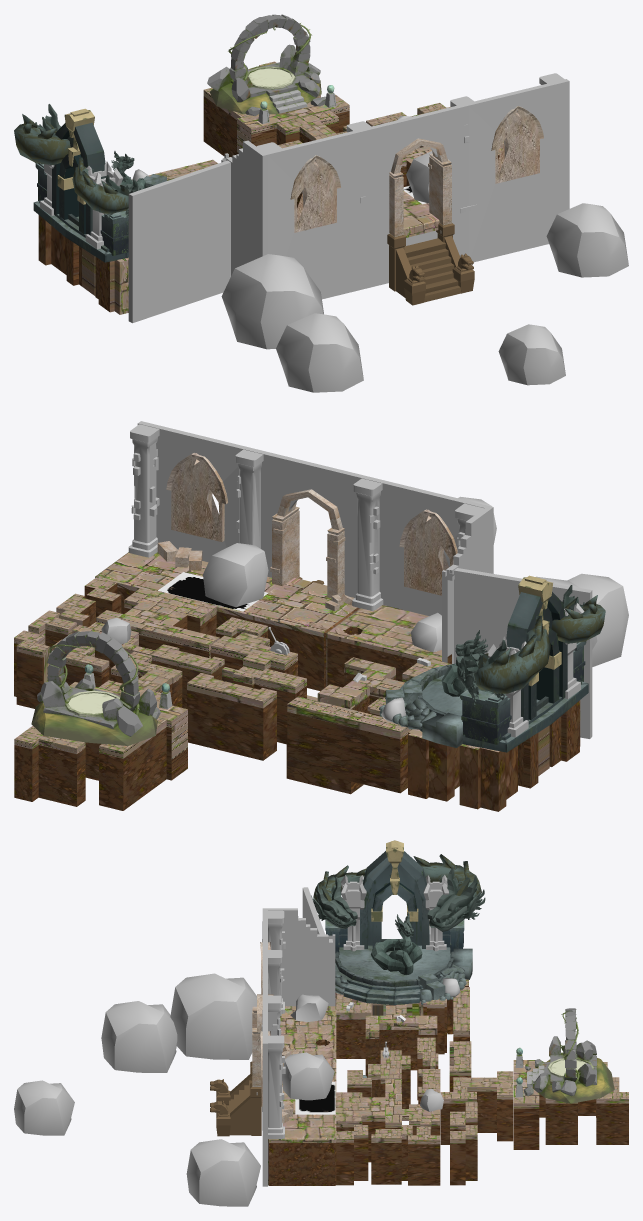
File: Tutorial_Level.fbx
3 views of the same model, one above another, from view 1: azimuth 30°, elevation 25°; view 2: azimuth 150°, elevation 25°; view 3: azimuth 270°, elevation 25° (orthographic). The views are drawn at different scales.
Parts seen in each view (by area): view 1: Cube.157, Cube.020, Cube.021, Cube.003, Box001.002, Box001.003, escalera3, Box001.005, Cube.017, Cube.123, Box001.004, Box01_0.029 (+18 smaller); view 2: Cube.083, Cube.018, Cube.084, Cube.003, Cube.157, Cube.021, Cube.020, Cube.019, Cube.159, Cube.123, Cube.160, Box01_0.029 (+44 smaller); view 3: Box001.002, Box001.003, Cube.031, Cube.123, Cube.017, Box001.005, Cube.124, Cube.016, Box001.004, escalera3, Cube.162, Cube.006 (+39 smaller).
Part boxes in pixels (bbox=[...]): Cube.157: bbox=[128, 160, 230, 323]; Cube.020: bbox=[466, 79, 569, 262]; Cube.021: bbox=[265, 128, 368, 299]; Cube.003: bbox=[366, 103, 468, 287]; Box001.002: bbox=[221, 254, 323, 349]; Box001.003: bbox=[276, 313, 363, 392]; escalera3: bbox=[387, 223, 474, 305]; Box001.005: bbox=[546, 203, 628, 277]; Cube.017: bbox=[221, 140, 267, 275]; Cube.123: bbox=[52, 108, 106, 235]; Box001.004: bbox=[498, 324, 565, 385]; Box01_0.029: bbox=[389, 138, 451, 236]; Cube.083: bbox=[287, 696, 410, 793]; Cube.018: bbox=[211, 576, 359, 691]; Cube.084: bbox=[187, 673, 276, 760]; Cube.003: bbox=[253, 449, 371, 597]; Cube.157: bbox=[454, 568, 592, 738]; Cube.021: bbox=[369, 477, 487, 615]; Cube.020: bbox=[137, 421, 256, 562]; Cube.019: bbox=[326, 605, 451, 687]; Cube.159: bbox=[14, 726, 85, 806]; Cube.123: bbox=[506, 575, 567, 721]; Cube.160: bbox=[99, 717, 166, 810]; Box01_0.029: bbox=[270, 489, 345, 598]; Box001.002: bbox=[170, 973, 256, 1059]; Box001.003: bbox=[101, 1001, 177, 1072]; Cube.031: bbox=[268, 1095, 336, 1185]; Cube.123: bbox=[360, 840, 429, 948]; Cube.017: bbox=[262, 908, 335, 1006]; Box001.005: bbox=[186, 1139, 260, 1206]; Cube.124: bbox=[335, 945, 459, 1004]; Cube.016: bbox=[365, 1004, 437, 1077]; Box001.004: bbox=[14, 1080, 74, 1135]; escalera3: bbox=[210, 1061, 261, 1136]; Cube.162: bbox=[462, 1071, 513, 1141]; Cube.006: bbox=[371, 1125, 412, 1184].
Size of what is drawn, in the model's own units: 3238 by 1436 by 3976.
